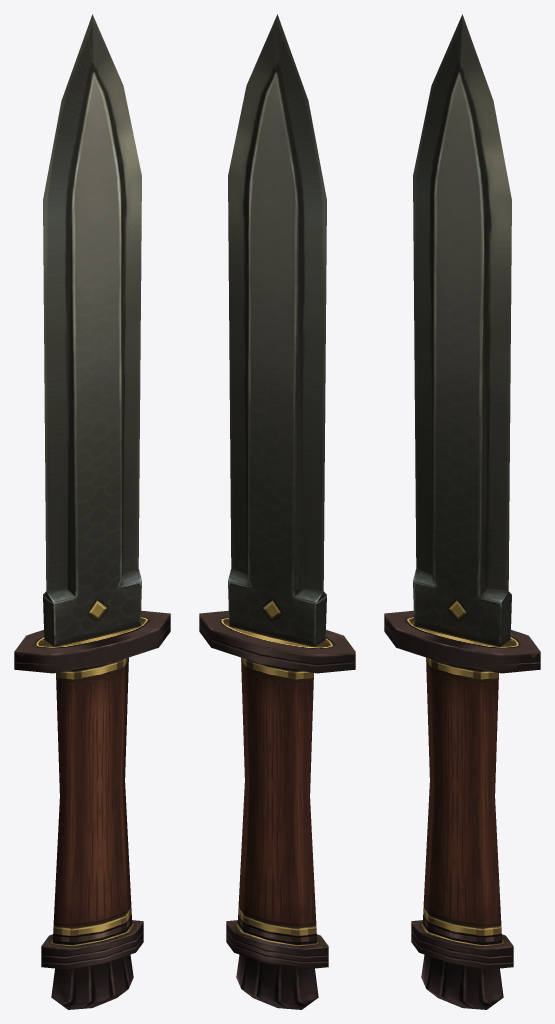
Rendered from 90_weapon.FBX.
3 renders of one model, left to right at view 1: azimuth 30°, elevation 25°; view 2: azimuth 150°, elevation 25°; view 3: azimuth 330°, elevation 25°, orthographic.
Parts seen in each view (by area): view 1: 90_weapon; view 2: 90_weapon; view 3: 90_weapon.
Boxes of the visible parts, <box> form: 90_weapon: <box>14,14,170,1009</box>; 90_weapon: <box>199,14,355,1009</box>; 90_weapon: <box>384,14,540,1009</box>.
Bounding box in the file's own units: 192 × 1165 × 75.29.
